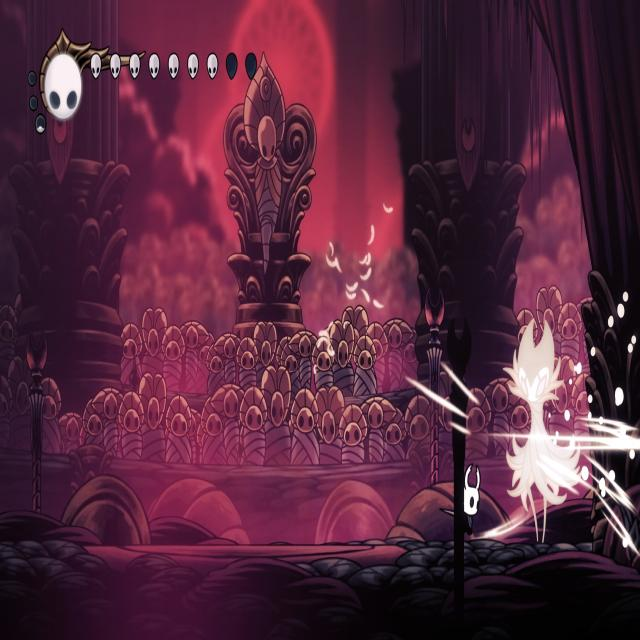Grimm: (507, 311, 586, 545)
Player: (458, 459, 483, 539)
